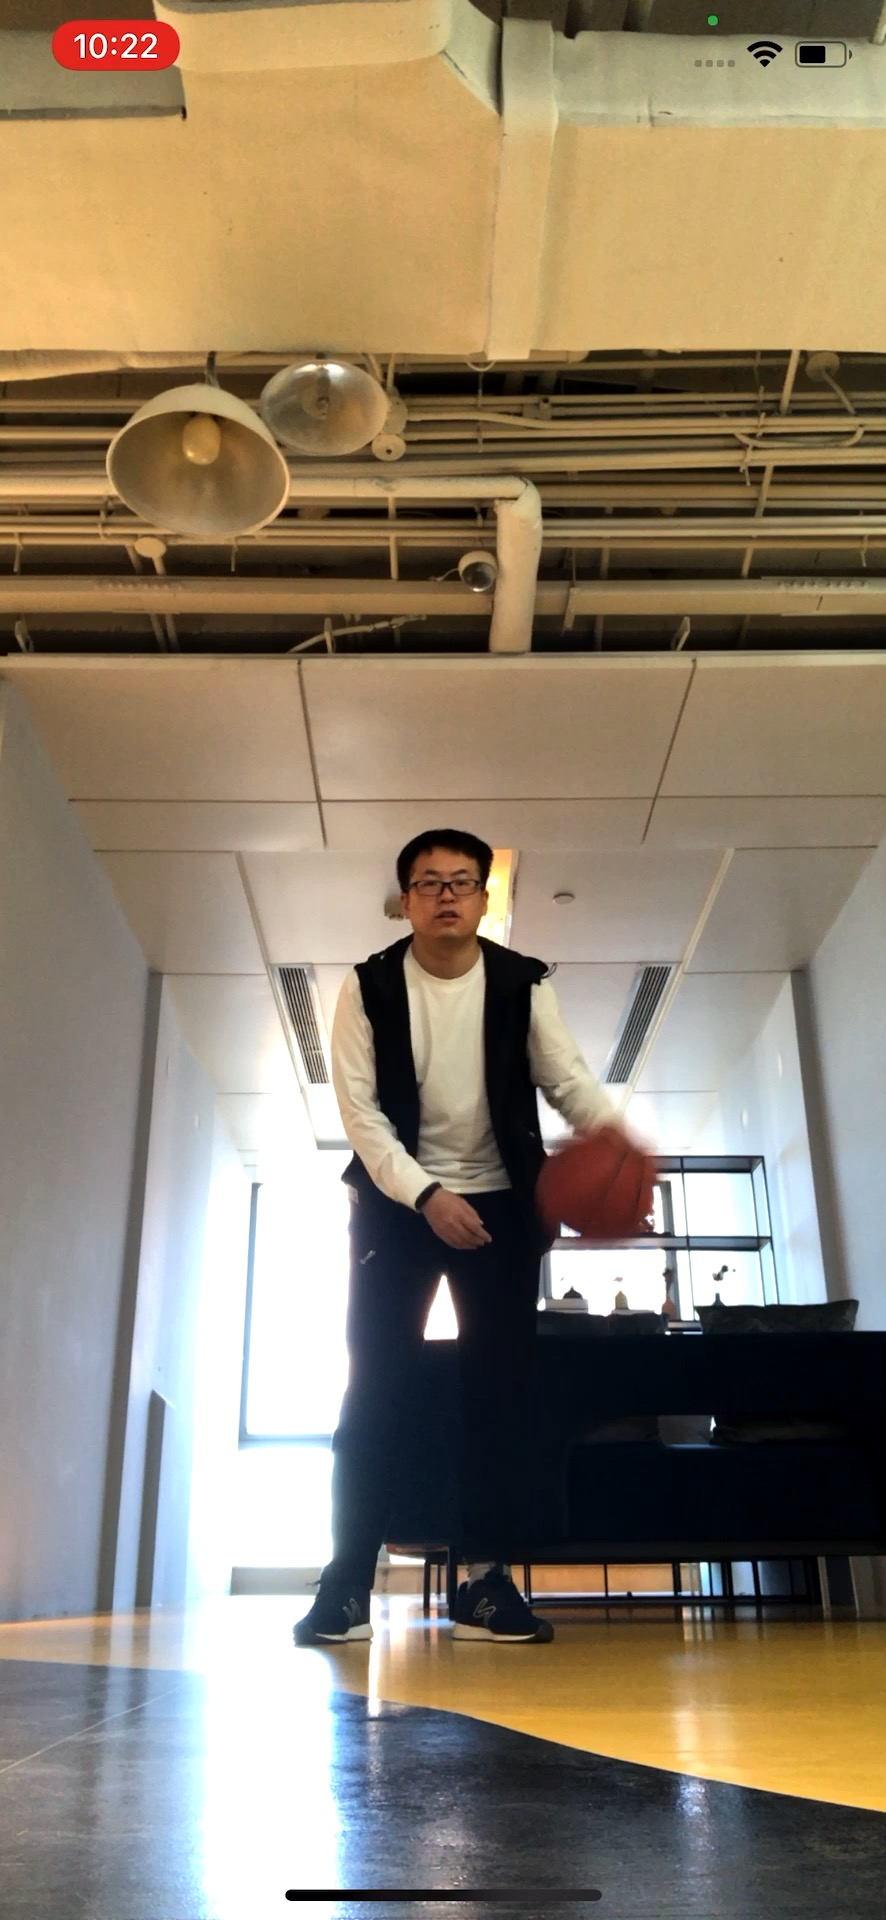ball: (537, 1123, 657, 1247)
